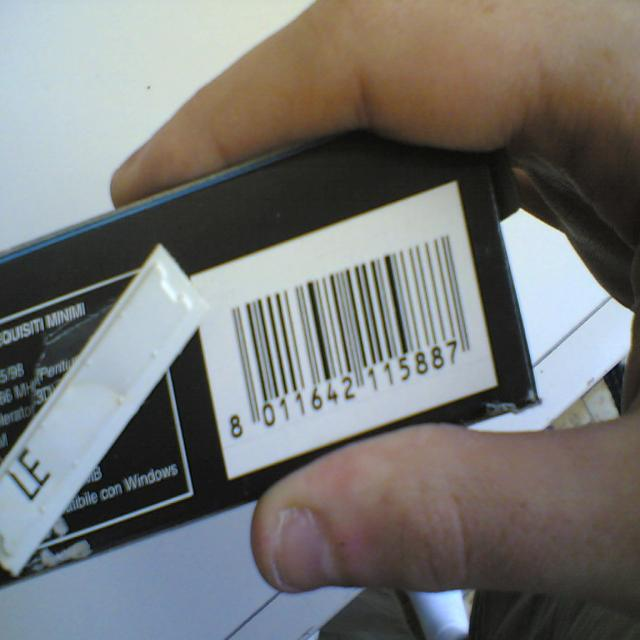barcode: (192, 182, 498, 478)
